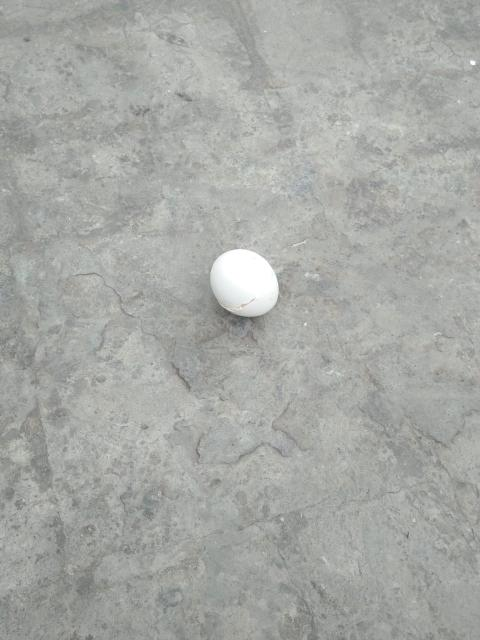Roto: (208, 248, 279, 318)
